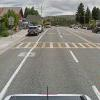Crosswalk: (15, 35, 100, 66)
